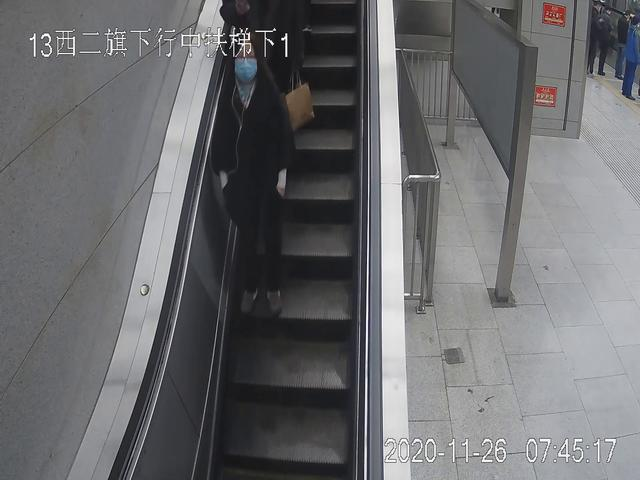person: (217, 44, 295, 317), (619, 17, 640, 101), (596, 7, 612, 77)
